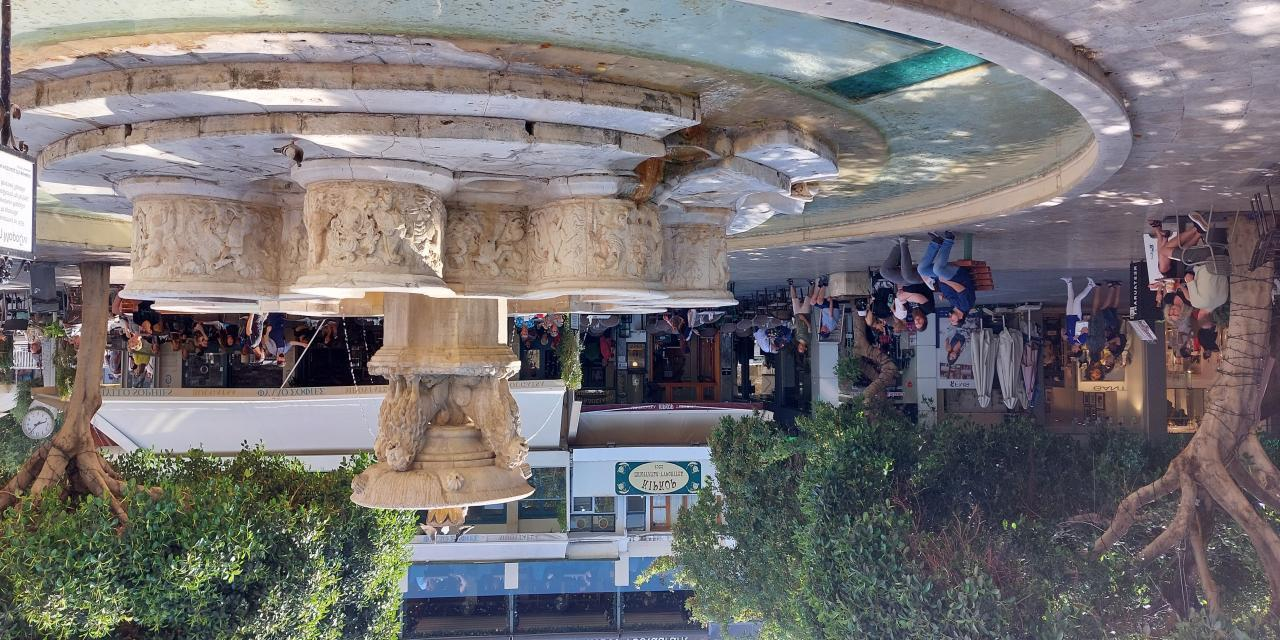Liontaria: (122, 157, 739, 519)
